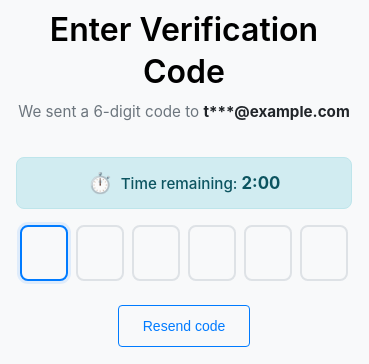
it: TokenInput.vue › shows loading state during validation
Type "1" into the 1st field with class "token-digit".
click(44, 253); type("1")  # box [20, 225, 68, 281]
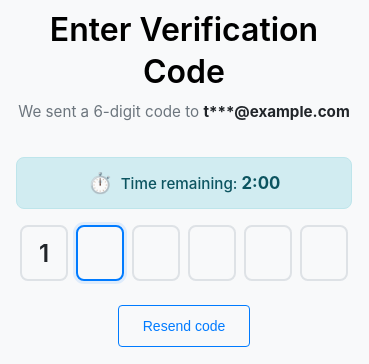
Type "2" into the 2nd field with class "token-digit".
click(100, 253); type("2")  # box [76, 225, 124, 281]
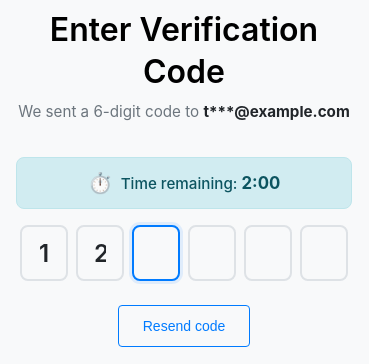
Type "3" into the 3rd field with class "token-digit".
click(156, 253); type("3")  # box [132, 225, 180, 281]
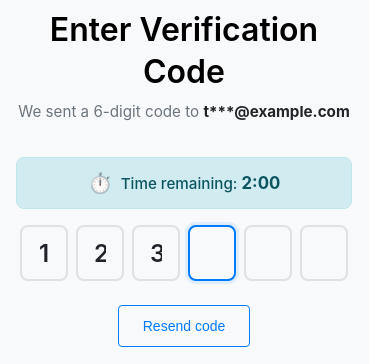
Type "4" into the 4th field with class "token-digit".
click(212, 253); type("4")  # box [188, 225, 236, 281]
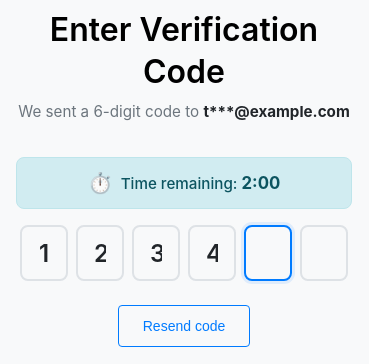
Type "5" into the 5th field with class "token-digit".
click(268, 253); type("5")  # box [244, 225, 292, 281]
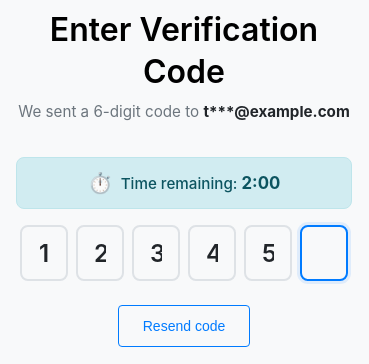
Type "6" into the 6th field with class "token-digit".
click(324, 253); type("6")  # box [300, 225, 348, 281]
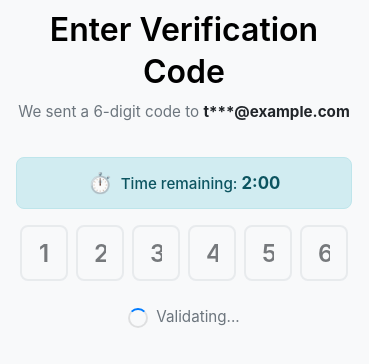
Expected: the element with class "loading" is shown, [128, 307, 240, 328]
Expected: the text "Validating" is shown, [156, 307, 240, 326]
